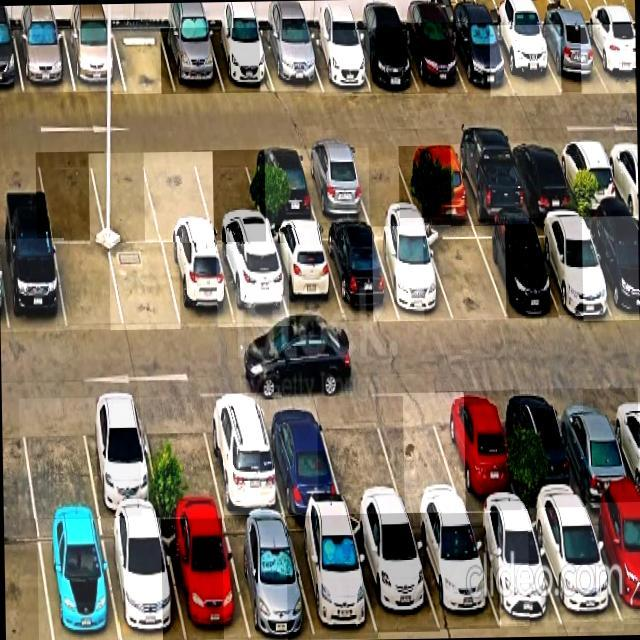empty: (372, 393, 465, 513), (316, 397, 404, 512), (140, 398, 223, 517), (19, 398, 97, 518), (424, 226, 506, 320), (193, 149, 266, 242), (88, 153, 161, 242), (144, 153, 214, 242), (36, 152, 105, 241), (109, 243, 180, 329), (54, 243, 123, 329), (347, 147, 418, 219), (112, 28, 176, 92)
occupied: (527, 507, 623, 632), (286, 515, 378, 640), (222, 518, 314, 638), (160, 518, 250, 639), (468, 511, 561, 626), (408, 512, 499, 629), (349, 515, 439, 631), (101, 518, 185, 640), (435, 391, 521, 510), (200, 393, 283, 515), (37, 519, 119, 640), (554, 390, 639, 505), (259, 397, 342, 513), (79, 397, 159, 516), (504, 390, 584, 508), (529, 218, 614, 315), (474, 225, 558, 318), (372, 226, 452, 320), (321, 226, 399, 321), (268, 227, 343, 325), (586, 502, 640, 624), (163, 243, 236, 326), (0, 239, 65, 331), (217, 243, 289, 325), (582, 217, 639, 320), (450, 143, 526, 218), (244, 149, 317, 225), (298, 148, 369, 222), (399, 145, 471, 217), (489, 24, 561, 96), (506, 140, 576, 213), (533, 24, 608, 92), (446, 24, 514, 93), (555, 140, 622, 210), (400, 23, 466, 93), (208, 28, 274, 93), (352, 27, 418, 92), (160, 28, 224, 93), (304, 31, 370, 92), (63, 28, 125, 91), (14, 29, 74, 92), (580, 24, 635, 92), (259, 31, 321, 91)
